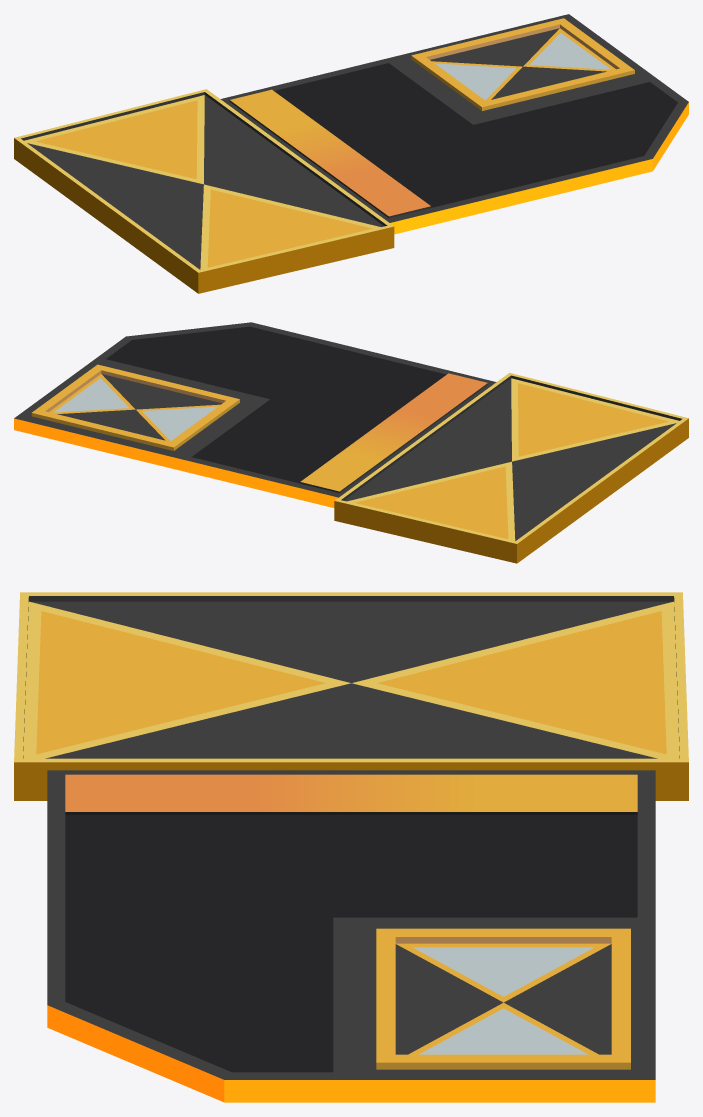
Rendered from Yellow_Access_Card.glb.
3 renders of one model, top to bottom at view 1: azimuth 30°, elevation 25°; view 2: azimuth 150°, elevation 25°; view 3: azimuth 270°, elevation 25°, orthographic. The views are drawn at different scales.
Parts seen in each view (by area): view 1: SciFiKey_YellowAccessCard; view 2: SciFiKey_YellowAccessCard; view 3: SciFiKey_YellowAccessCard.
Boxes of the visible parts, x1=… form: SciFiKey_YellowAccessCard: x1=14, y1=14, x2=688, y2=293; SciFiKey_YellowAccessCard: x1=14, y1=322, x2=688, y2=563; SciFiKey_YellowAccessCard: x1=14, y1=592, x2=688, y2=1102.
Size of what is drawn, in the model's own units: 0.4465 by 0.0167 by 0.2654.
1 material, 1 textured.
